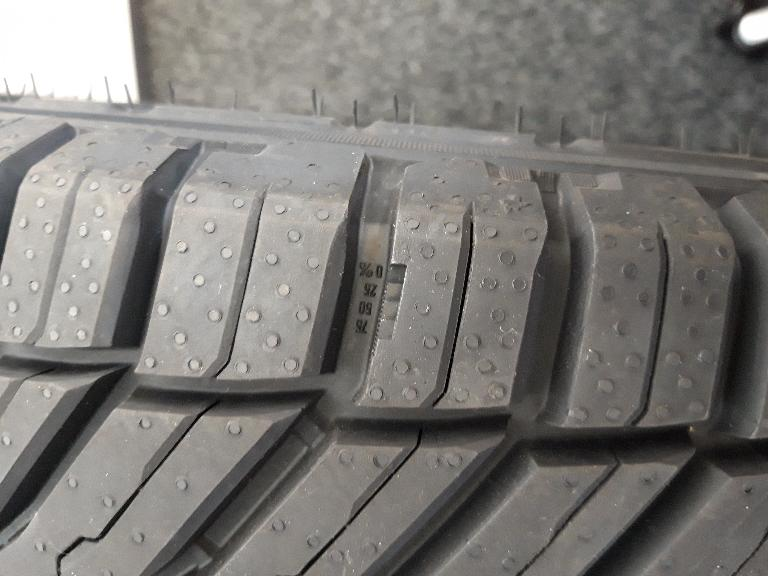temoin:100: (371, 260, 408, 356)
